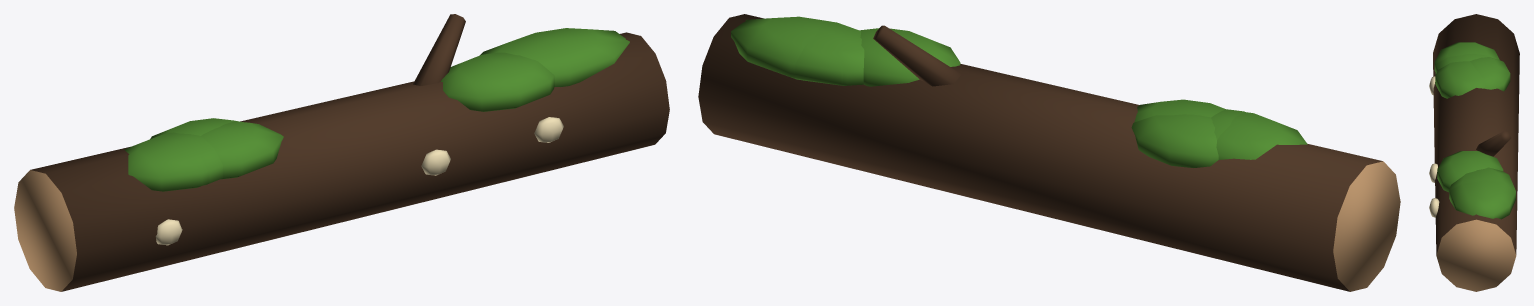
Rendered from Log_Mossy.fbx.
The picture shows the model from 3 angles, left to right: view 1: azimuth 30°, elevation 25°; view 2: azimuth 150°, elevation 25°; view 3: azimuth 270°, elevation 25°; orthographic projection. The views are drawn at different scales.
Visible parts, largest first — view 1: Log_Mossy.001; view 2: Log_Mossy.001; view 3: Log_Mossy.001.
Boxes of the visible parts, x1=… form: Log_Mossy.001: x1=14, y1=14, x2=669, y2=291; Log_Mossy.001: x1=698, y1=14, x2=1400, y2=291; Log_Mossy.001: x1=1429, y1=14, x2=1519, y2=291.
Bounding box in the file's own units: 2.4 × 0.5951 × 0.459.
